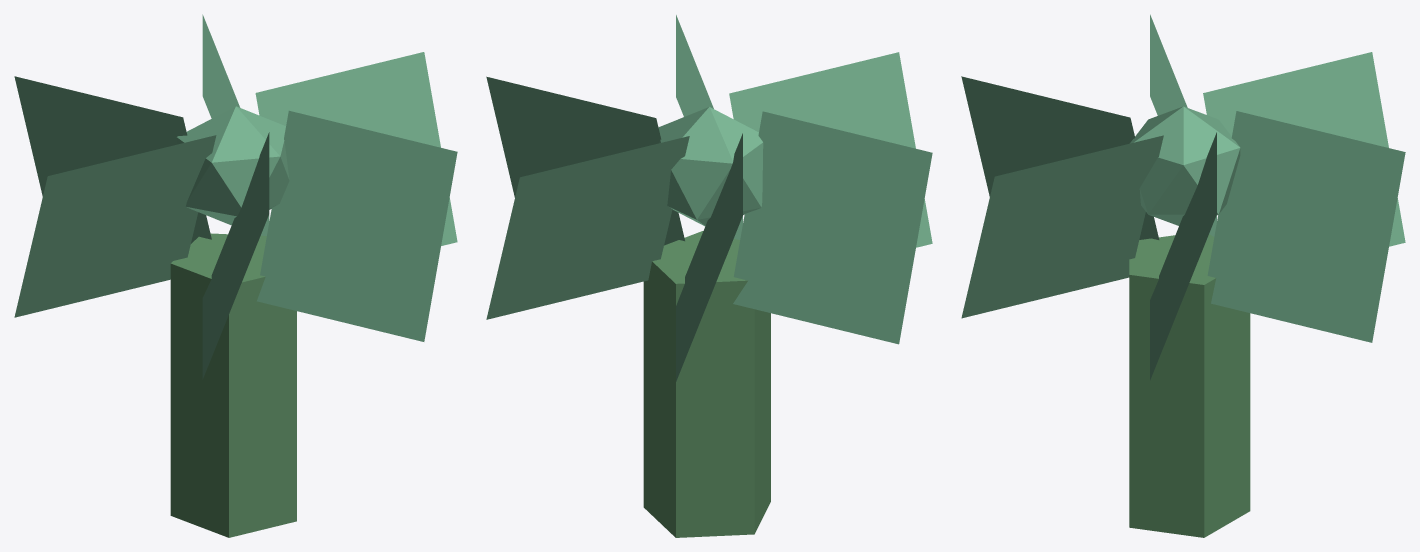
Rendered from HerbNode.fbx.
3 renders of one model, left to right at view 1: azimuth 30°, elevation 25°; view 2: azimuth 150°, elevation 25°; view 3: azimuth 270°, elevation 25°, orthographic.
Visible parts, largest first — view 1: HerbNode_Petal6, HerbNode_Stem, HerbNode_Petal4, HerbNode_Petal3, HerbNode_Petal1, HerbNode_Bud, HerbNode_Petal5, HerbNode_Petal2; view 2: HerbNode_Petal4, HerbNode_Stem, HerbNode_Petal2, HerbNode_Petal1, HerbNode_Petal5, HerbNode_Bud, HerbNode_Petal3, HerbNode_Petal6; view 3: HerbNode_Petal2, HerbNode_Stem, HerbNode_Petal6, HerbNode_Petal5, HerbNode_Petal3, HerbNode_Bud, HerbNode_Petal1, HerbNode_Petal4.
Boxes of the visible parts, <box> form: HerbNode_Petal6: <box>257,110,457,341</box>; HerbNode_Stem: <box>170,233,296,537</box>; HerbNode_Petal4: <box>14,135,216,317</box>; HerbNode_Petal3: <box>14,76,211,243</box>; HerbNode_Petal1: <box>255,52,457,245</box>; HerbNode_Bud: <box>176,106,289,225</box>; HerbNode_Petal5: <box>202,132,269,379</box>; HerbNode_Petal2: <box>202,14,269,239</box>; HerbNode_Petal4: <box>733,111,932,344</box>; HerbNode_Stem: <box>643,231,770,537</box>; HerbNode_Petal2: <box>486,136,689,319</box>; HerbNode_Petal1: <box>486,76,684,245</box>; HerbNode_Petal5: <box>729,52,932,247</box>; HerbNode_Bud: <box>658,107,763,226</box>; HerbNode_Petal3: <box>676,133,742,381</box>; HerbNode_Petal6: <box>676,15,742,240</box>; HerbNode_Petal2: <box>1207,111,1405,342</box>; HerbNode_Stem: <box>1129,234,1250,537</box>; HerbNode_Petal6: <box>961,135,1163,318</box>; HerbNode_Petal5: <box>961,76,1159,239</box>; HerbNode_Petal3: <box>1203,52,1405,246</box>; HerbNode_Bud: <box>1130,106,1240,225</box>; HerbNode_Petal1: <box>1150,132,1216,380</box>; HerbNode_Petal4: <box>1150,14,1216,239</box>.
Size of the model in its own units: 2 by 1.88 by 1.87.
